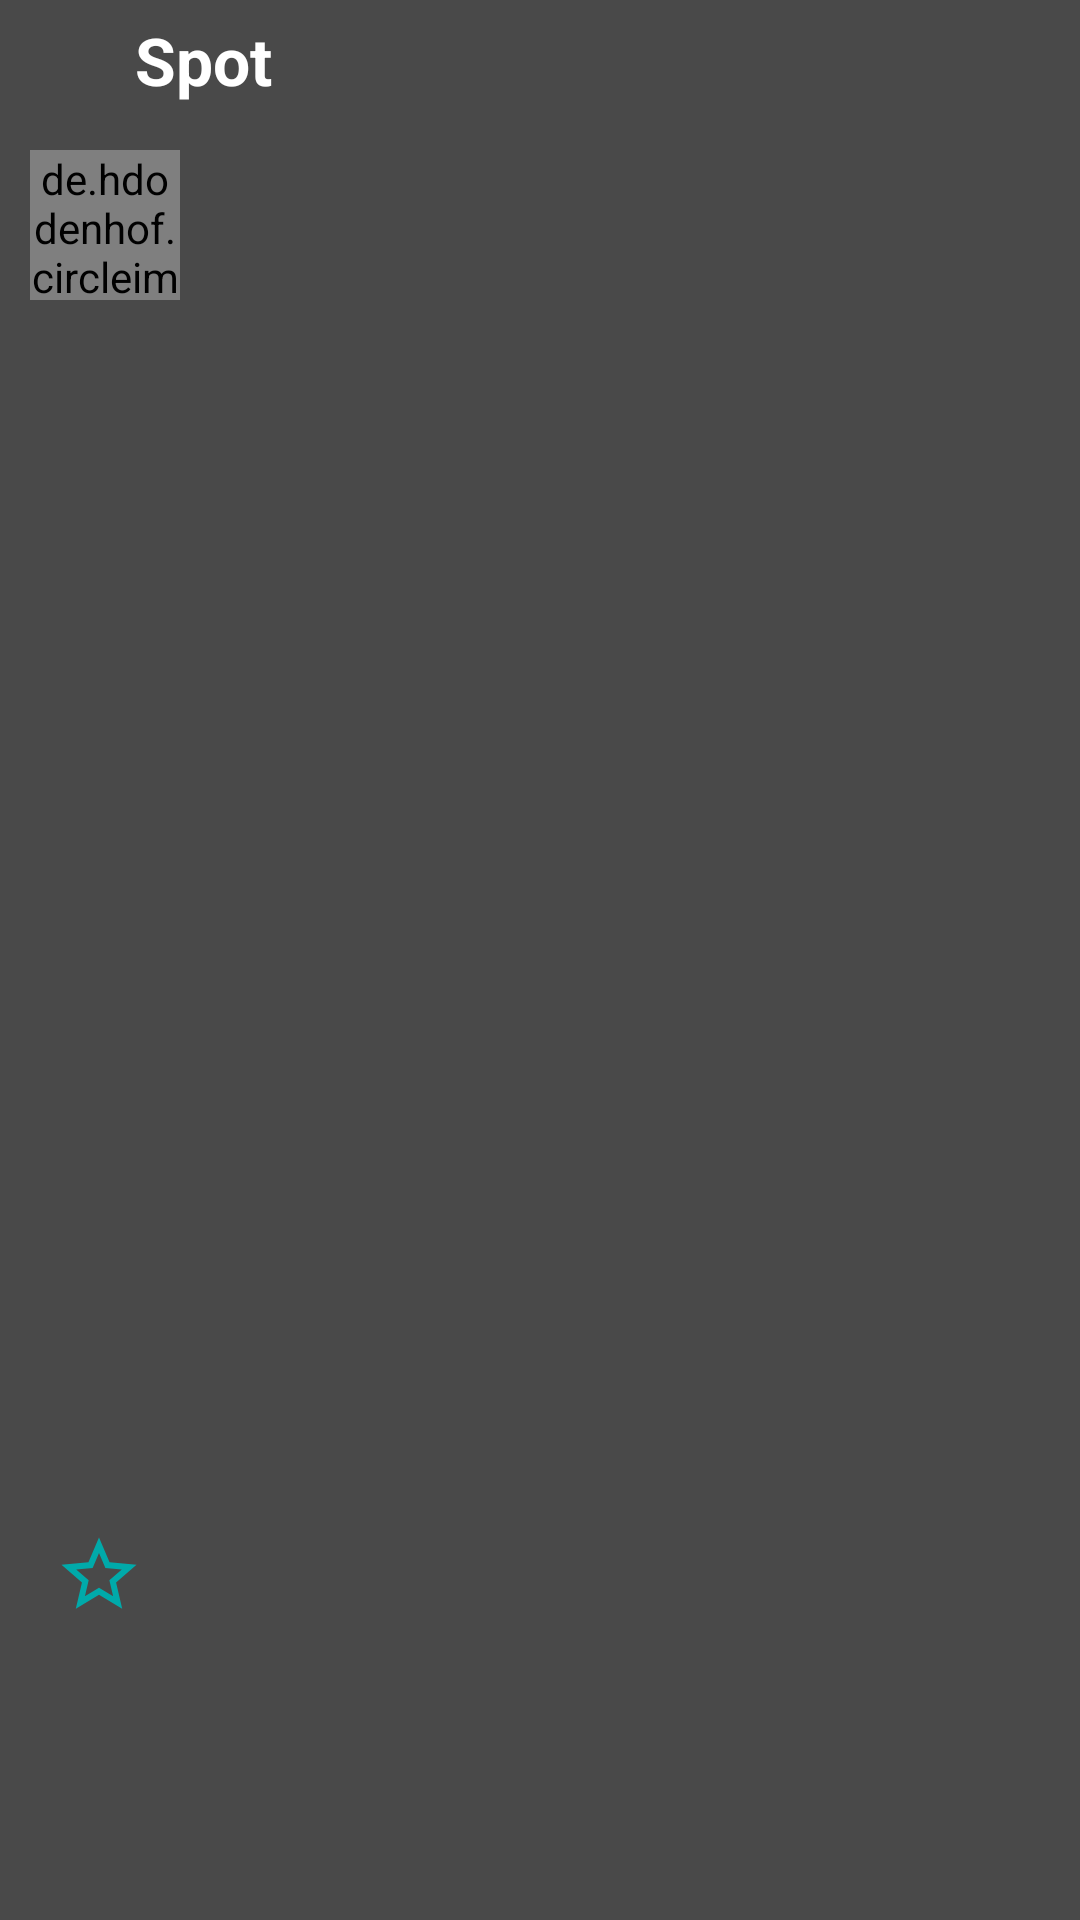

Locate icon controls on the screen. Image size 1080 × 1920, boxes as (x1, y1, x2, y2).
star: (62, 1538, 136, 1609)
